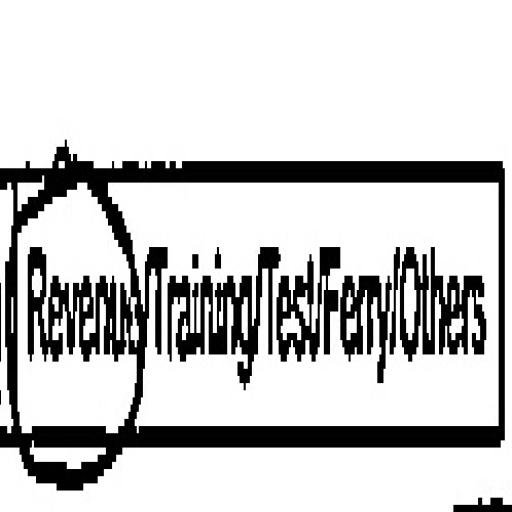check: (7, 107, 146, 512)
